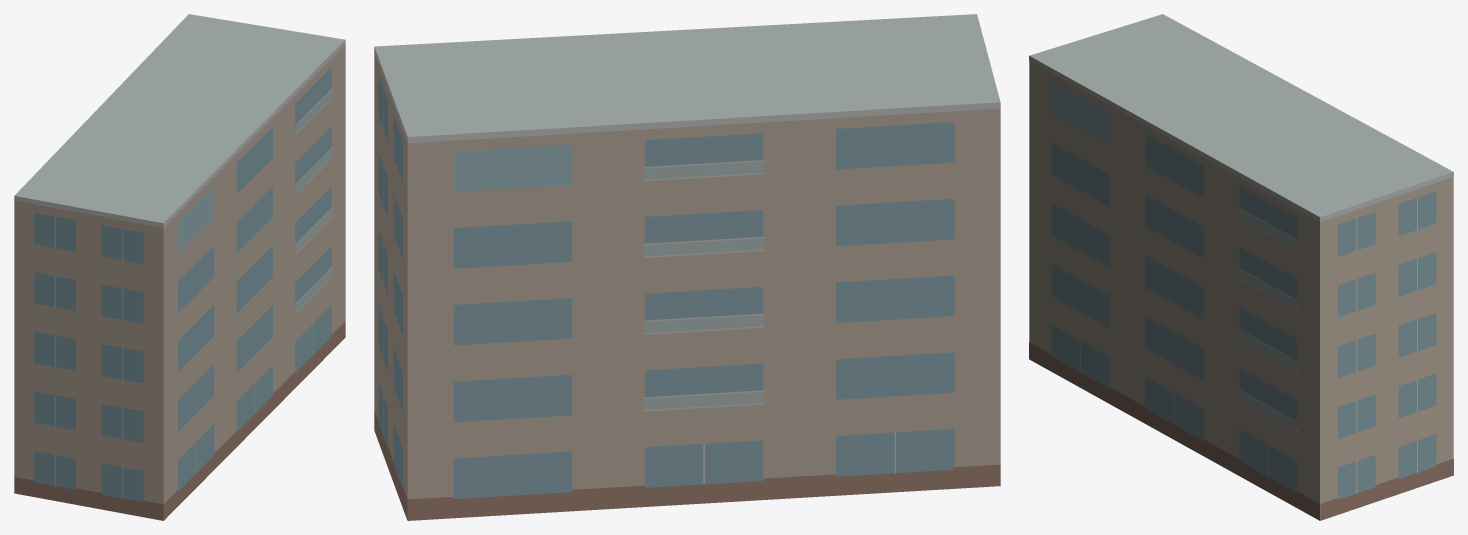
File: survey-upis-32677874.glb
The picture shows the model from 3 angles, left to right: view 1: azimuth 30°, elevation 25°; view 2: azimuth 150°, elevation 25°; view 3: azimuth 270°, elevation 25°; orthographic projection. The views are drawn at different scales.
Parts seen in each view (by area): view 1: survey-upis-32677874.tmp; view 2: survey-upis-32677874.tmp; view 3: survey-upis-32677874.tmp.
Part boxes in pixels (x1,y1,x2,y2): survey-upis-32677874.tmp: [14, 14, 345, 520]; survey-upis-32677874.tmp: [374, 14, 1000, 520]; survey-upis-32677874.tmp: [1029, 14, 1453, 520].
Size of the model in its own units: 21.55 by 15 by 19.02.
